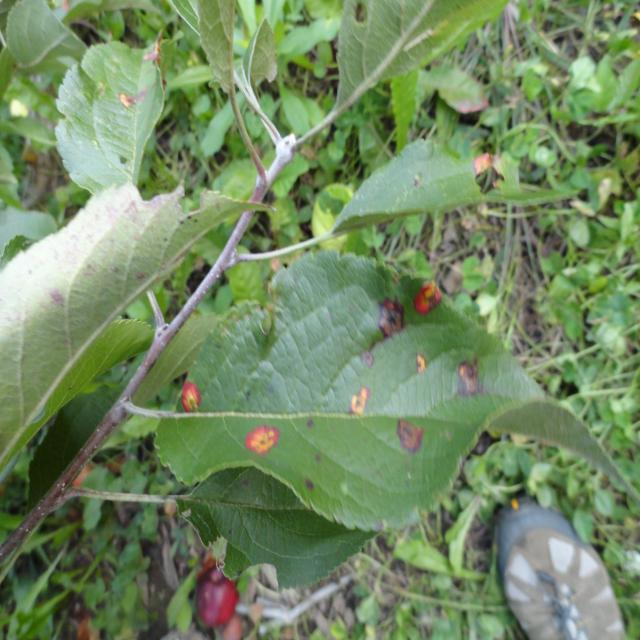Rust: (454, 352, 489, 411), (416, 271, 454, 325), (242, 417, 282, 464), (172, 368, 205, 422), (395, 416, 433, 460), (376, 293, 408, 342), (348, 376, 371, 434), (410, 339, 428, 390), (114, 81, 137, 120), (472, 150, 496, 183)
